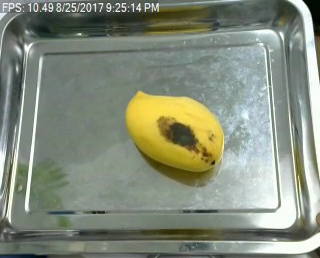Mango: (123, 86, 226, 174)
